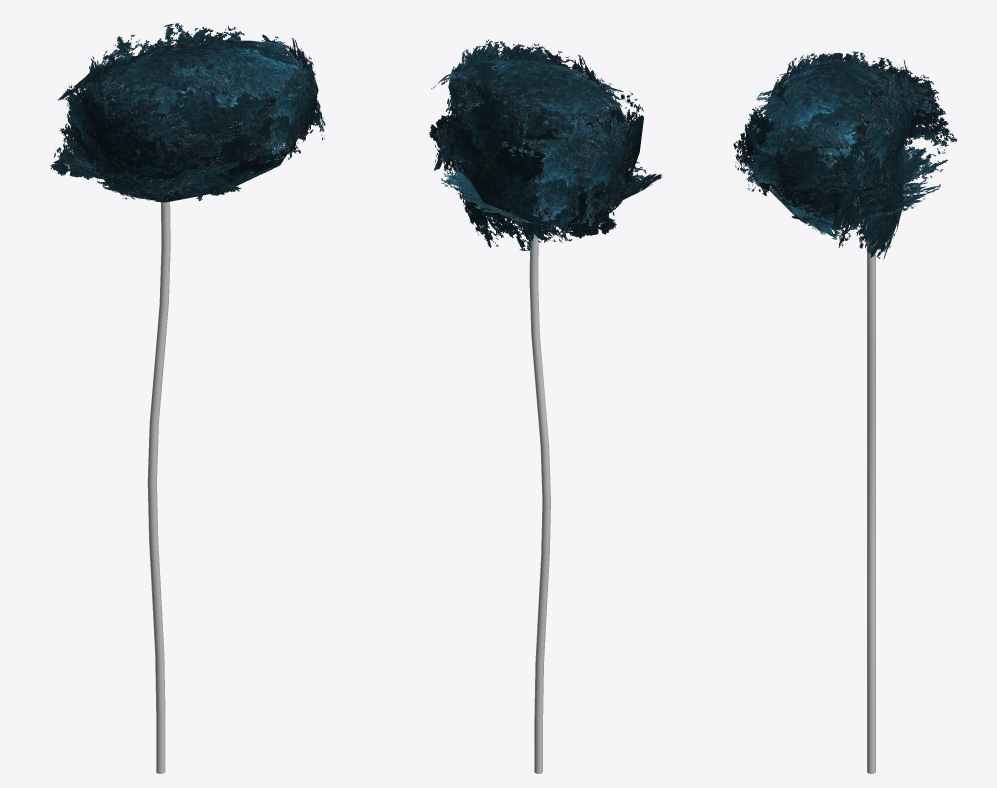
Rendered from Tree_120m.fbx.
3 renders of one model, left to right at view 1: azimuth 30°, elevation 25°; view 2: azimuth 150°, elevation 25°; view 3: azimuth 270°, elevation 25°, orthographic. The views are drawn at different scales.
Visible parts, largest first — view 1: Tree_120m; view 2: Tree_120m; view 3: Tree_120m.
Part boxes in pixels (bbox=[...]): Tree_120m: bbox=[50, 23, 325, 773]; Tree_120m: bbox=[428, 39, 662, 773]; Tree_120m: bbox=[733, 51, 956, 773].
Size of the model in its own units: 46.92 by 118 by 38.84.
